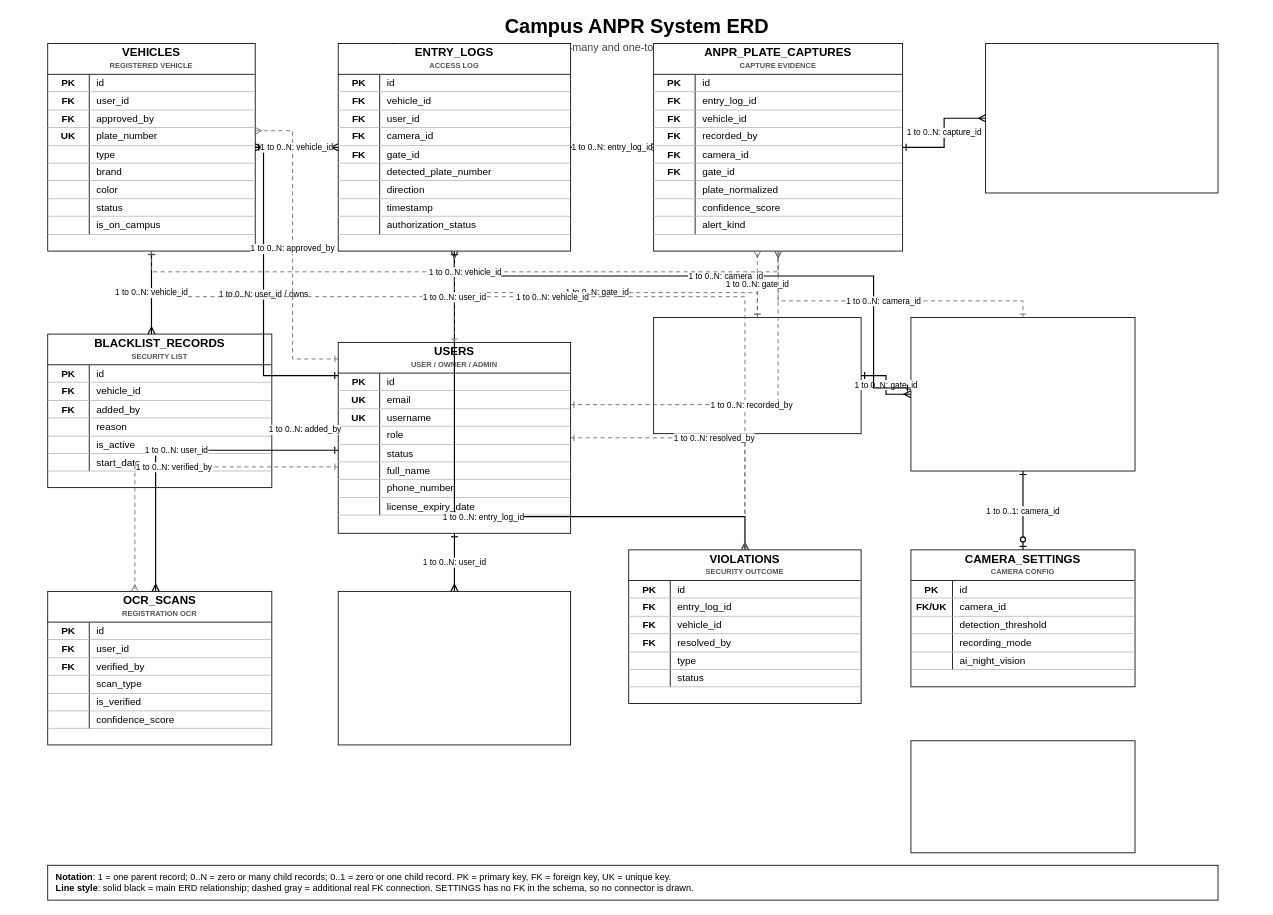
Some shapes in this 1273 by 915 pixel diagram are drawn without their labels. The box of each missing label's shape, as (x1, y1, x2, y2) in pixels:
ANPR_ANOMALY_EVENTS ALERT PK id FK capture_id kind status notes created_at: (985, 43, 1218, 193)
CAMERAS CAMERA DEVICE PK id FK gate_id name direction ip_address is_active: (910, 317, 1135, 471)
GATES GATE ENTRANCE PK id name location_description status: (653, 317, 861, 434)
NOTIFICATIONS USER NOTIFICATION PK id FK user_id title message type is_read: (337, 591, 571, 745)
SETTINGS SYSTEM CONFIG - NO FK PK key value description updated_at: (910, 740, 1135, 853)
